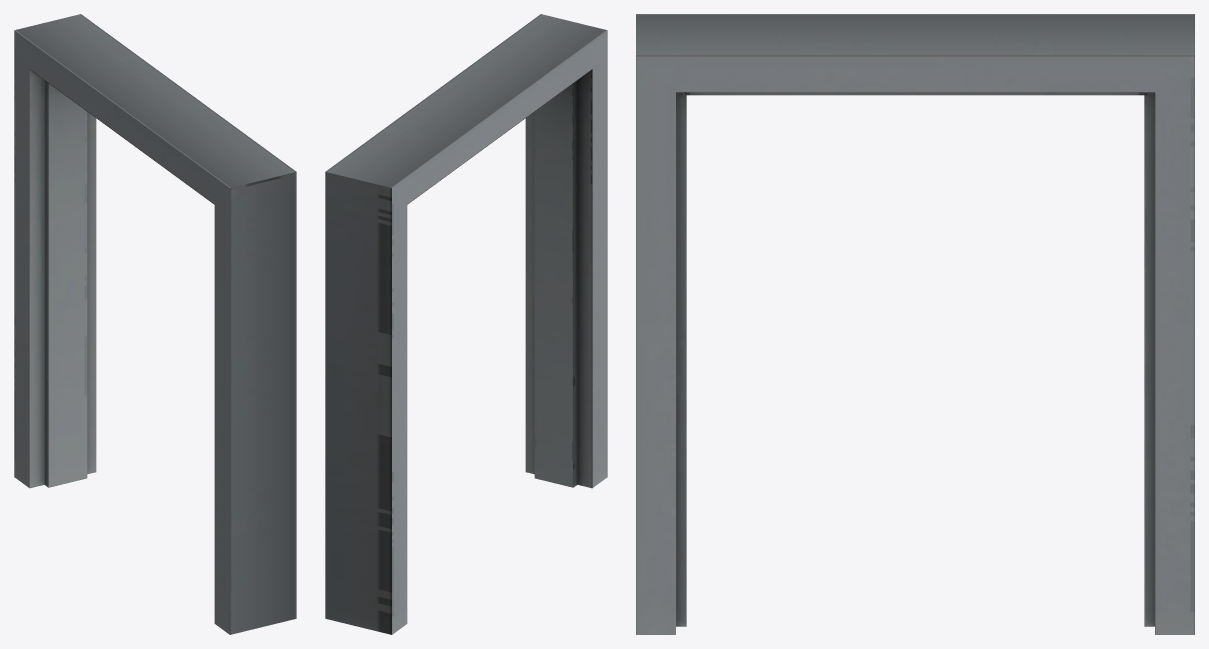
3 views of the same model, side by side, from view 1: azimuth 30°, elevation 25°; view 2: azimuth 150°, elevation 25°; view 3: azimuth 270°, elevation 25° (orthographic). The views are drawn at different scales.
Parts seen in each view (by area): view 1: body0_model0_lod0_mesh0; view 2: body0_model0_lod0_mesh0; view 3: body0_model0_lod0_mesh0.
Part boxes in pixels (box(x1,y1,x2,y2)): body0_model0_lod0_mesh0: box(14, 14, 296, 634); body0_model0_lod0_mesh0: box(325, 14, 607, 634); body0_model0_lod0_mesh0: box(636, 14, 1194, 634).
Size of the model in its own units: 20 by 128 by 112.
1 material, 1 textured.
